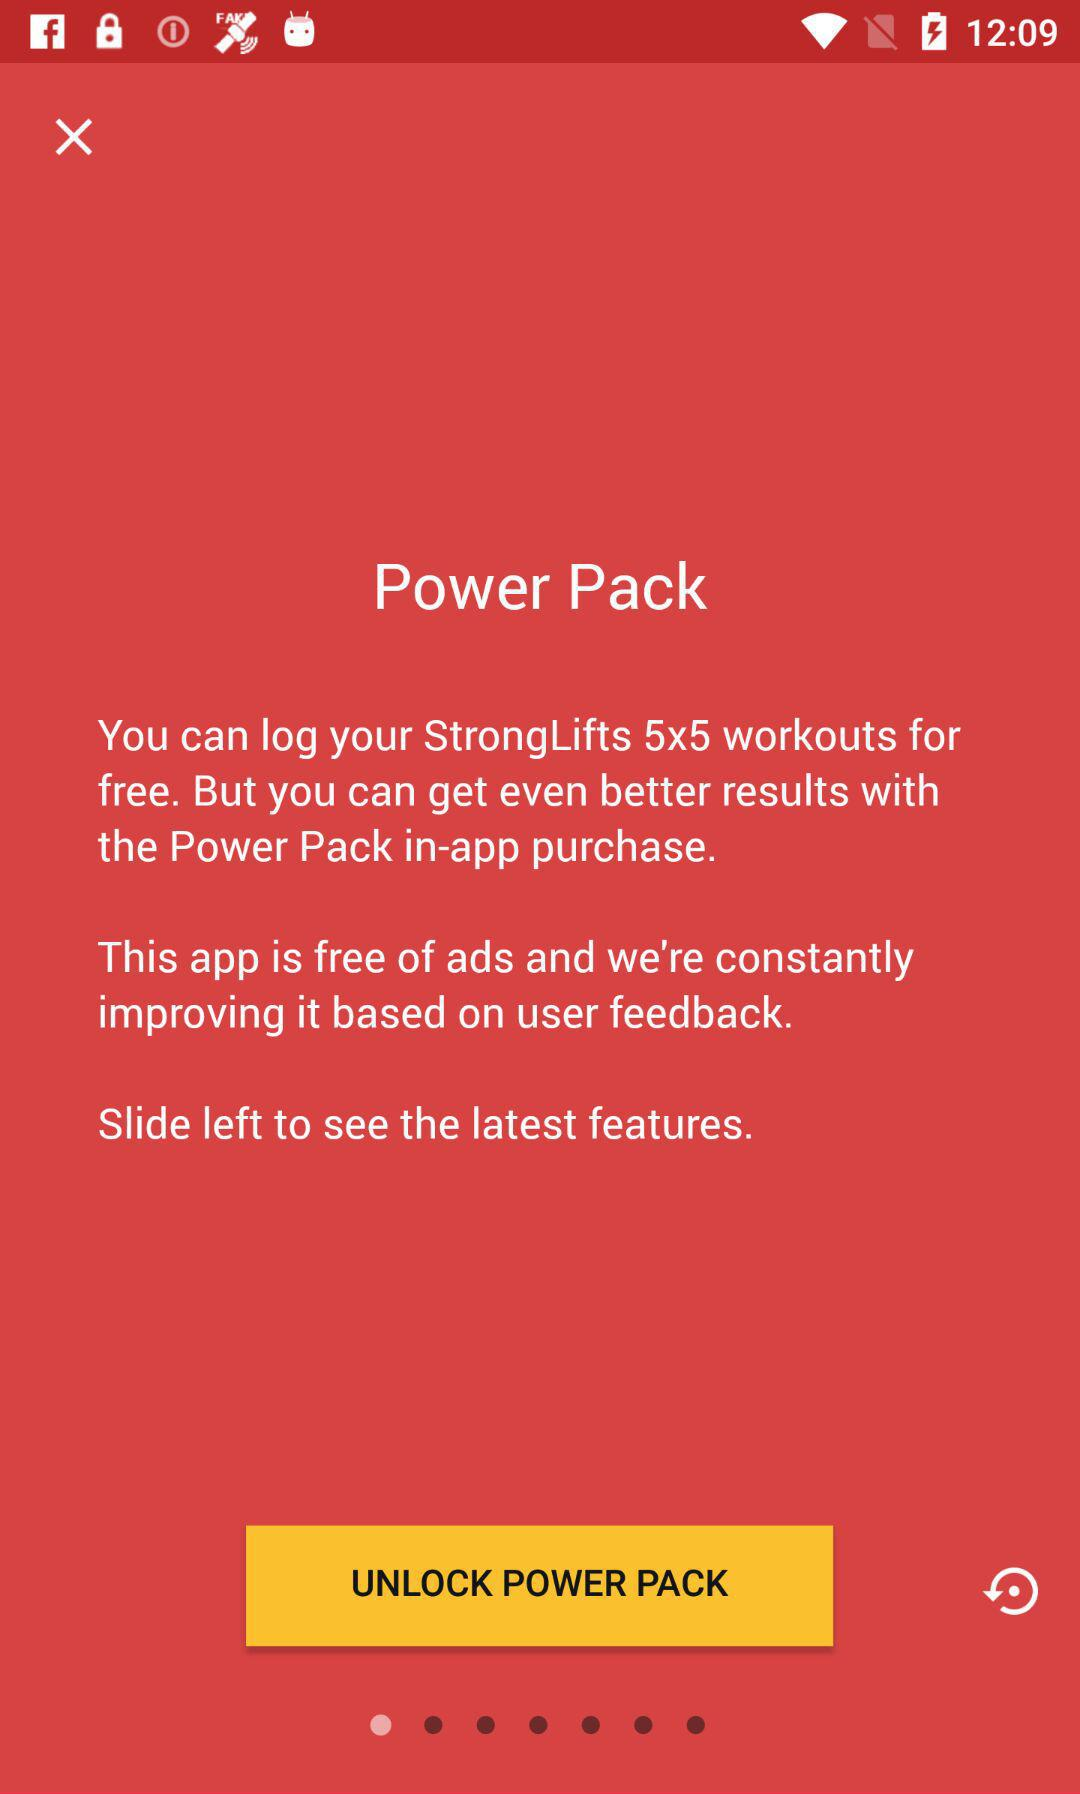Icon: (980, 1565, 1040, 1618), (55, 118, 95, 158)
PageIndicator: (369, 1713, 707, 1738)
Text: (97, 716, 961, 871), (97, 937, 915, 1041), (99, 1105, 753, 1143), (375, 560, 708, 613)
TextButton: (246, 1525, 835, 1647)
UpperTaskBar: (1, 1, 1080, 64)
